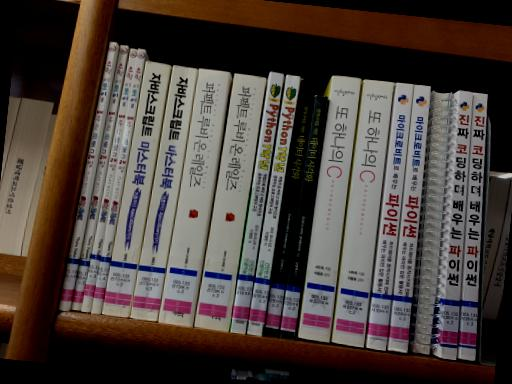book-spine: (194, 72, 266, 331), (157, 68, 229, 326), (101, 60, 170, 317), (298, 75, 362, 342), (330, 78, 393, 348), (130, 65, 196, 321), (57, 40, 118, 311), (69, 45, 128, 310), (80, 47, 136, 312), (91, 48, 146, 314), (230, 71, 284, 334), (247, 73, 301, 336), (365, 83, 413, 350), (262, 93, 314, 337), (278, 95, 328, 338), (387, 83, 431, 353), (441, 90, 473, 358), (459, 92, 487, 361)
